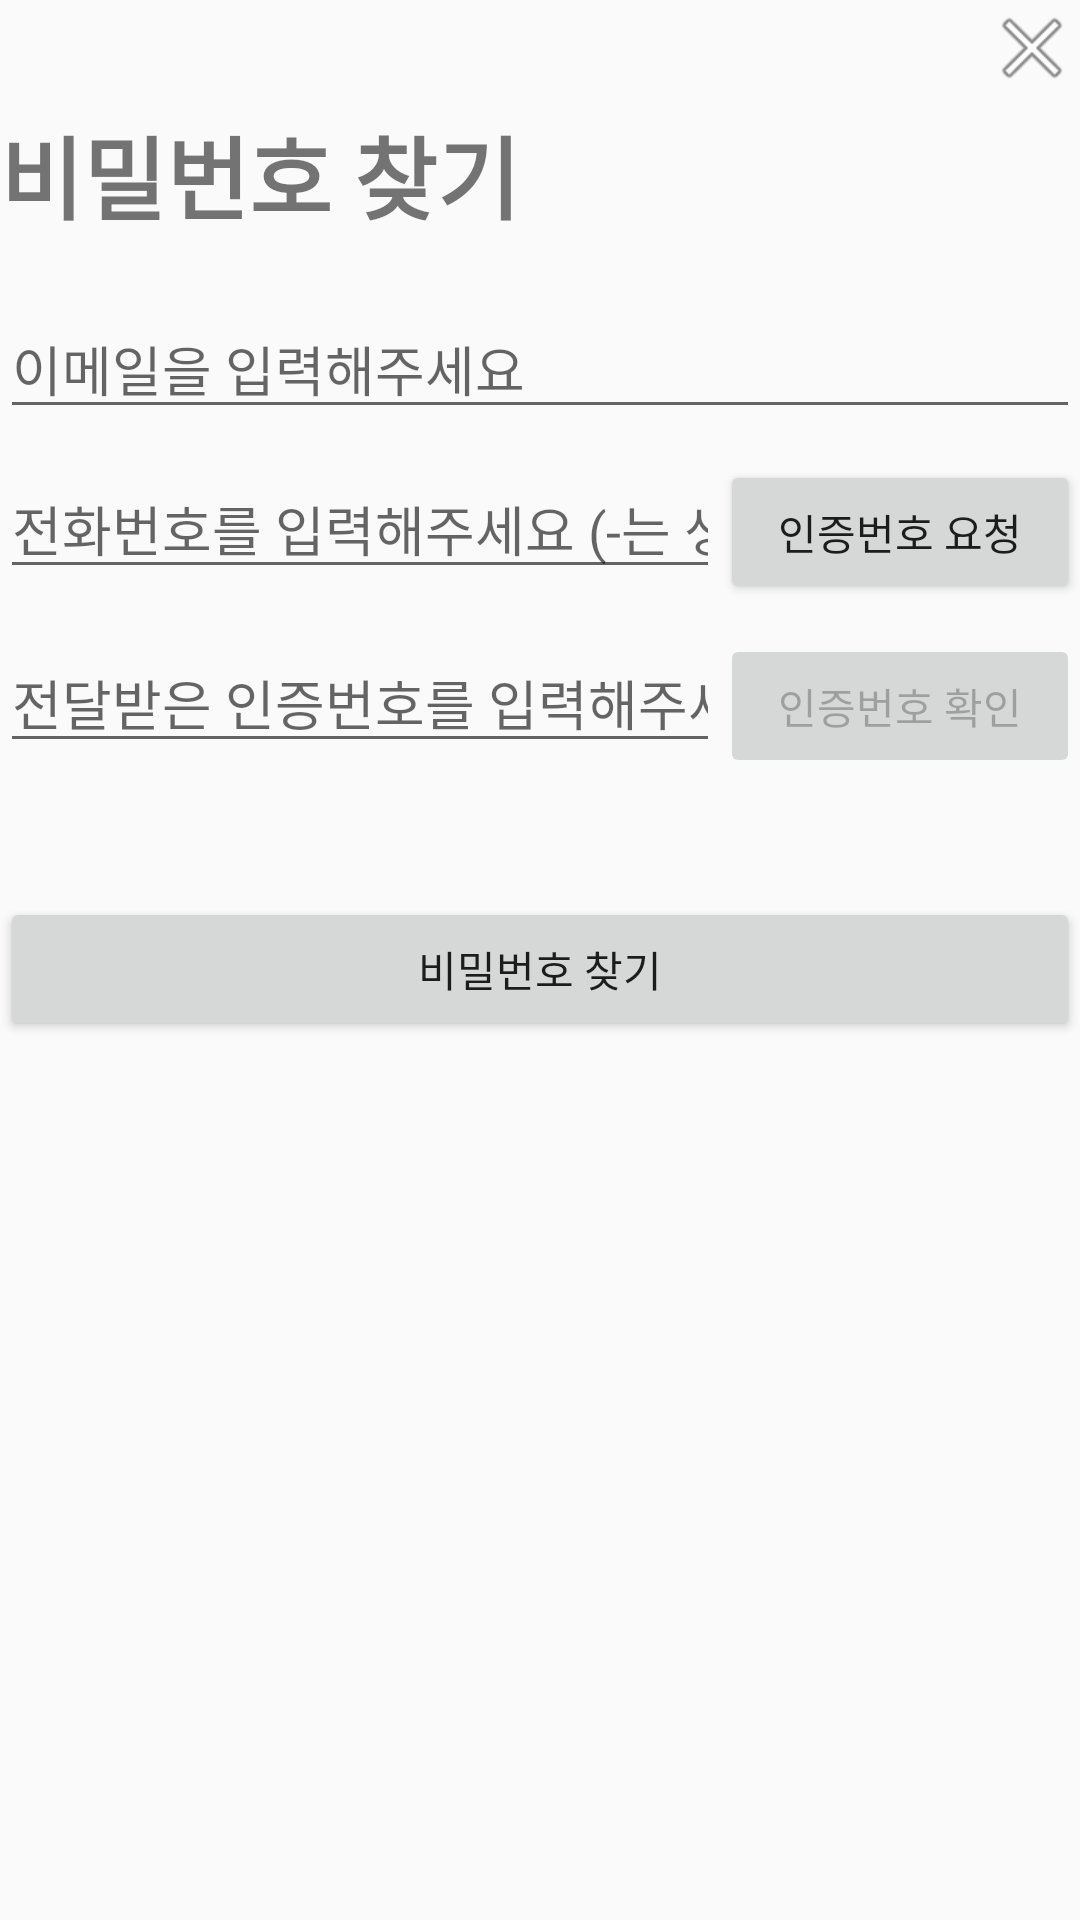

Icons on this 1080px x 1920px Android screen, each with the point to tap as (x=x, y=y):
close clear cancel: (x=1032, y=48)
